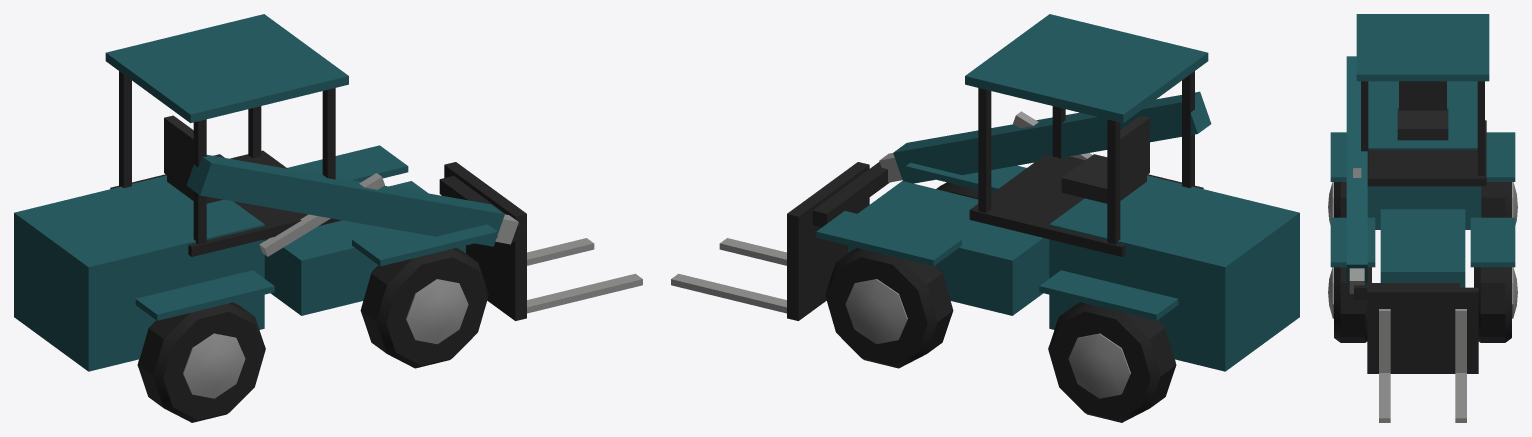
Rendered from SM_Prop_farm_loader_0_LOD1.glb.
3 renders of one model, left to right at view 1: azimuth 30°, elevation 25°; view 2: azimuth 150°, elevation 25°; view 3: azimuth 270°, elevation 25°, orthographic. The views are drawn at different scales.
Visible parts, largest first — view 1: SM_Prop_farm_loader_0_LOD1; view 2: SM_Prop_farm_loader_0_LOD1; view 3: SM_Prop_farm_loader_0_LOD1.
Part boxes in pixels (x1,y1,x2,y2): SM_Prop_farm_loader_0_LOD1: (14,14,642,422); SM_Prop_farm_loader_0_LOD1: (671,14,1299,422); SM_Prop_farm_loader_0_LOD1: (1328,14,1517,422).
Size of the model in its own units: 4.8 by 2.43 by 1.79.
